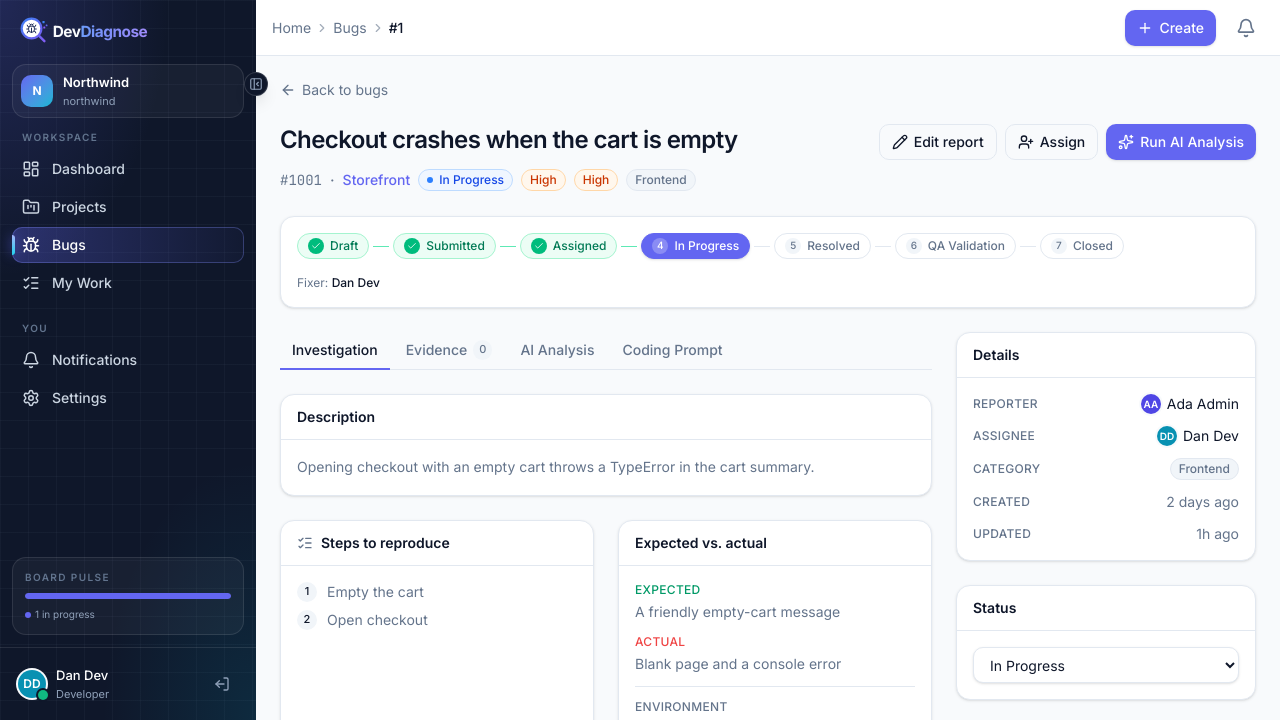
Test case: bug workflow transitions › shows the API error when the backend rejects a transition
Select "Resolved" in the dropdown: (1106, 665) [973,647,1239,683]
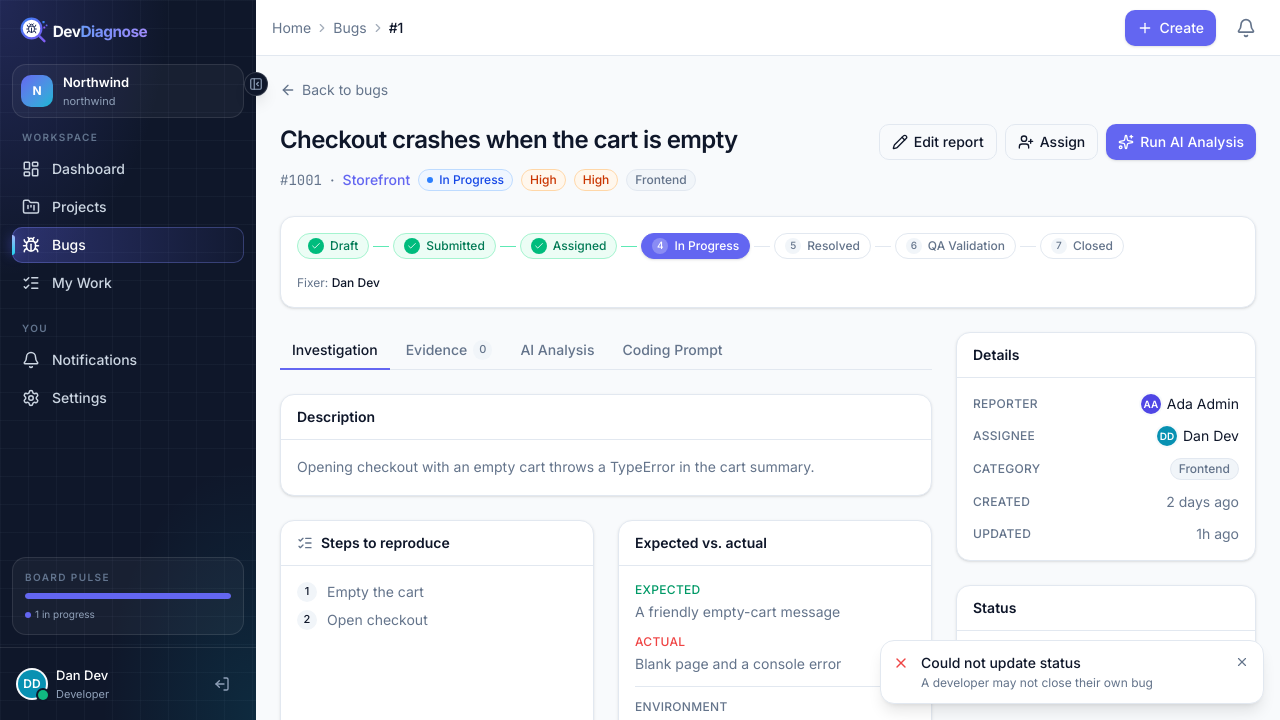
Expected: the text "Could not update status" is shown, [921,654,1081,671]
Expected: the text "A developer may not close their own bug" is shown, [921,675,1153,690]
